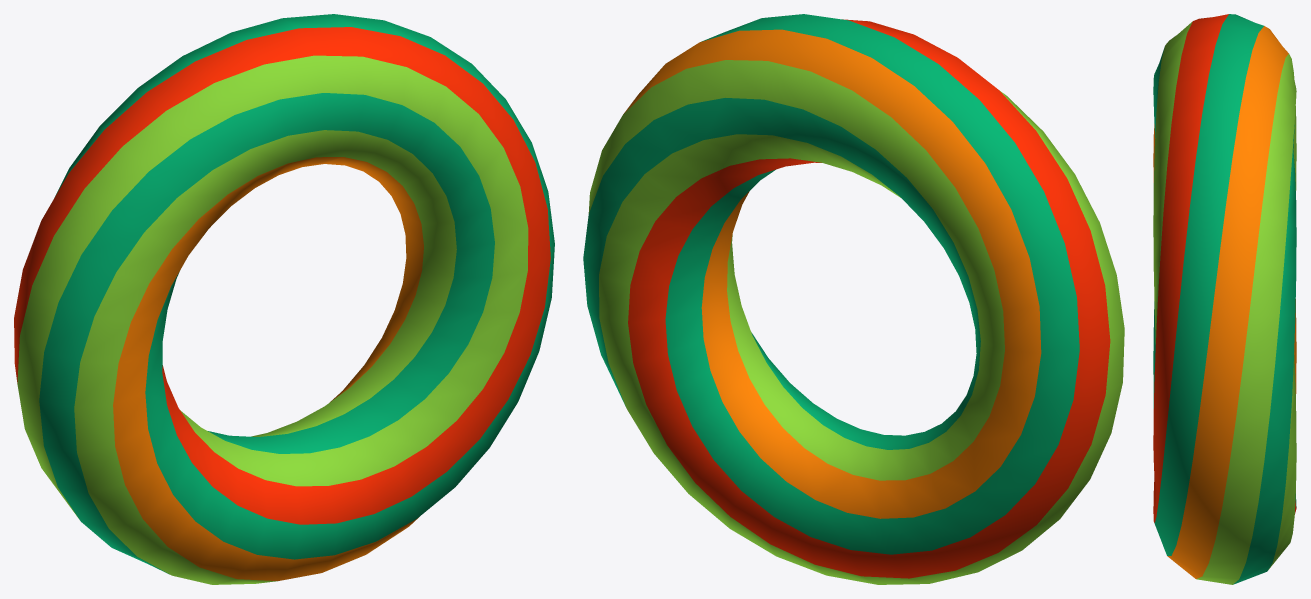
The model's file is lollipop_030.glb.
The picture shows the model from 3 angles, left to right: view 1: azimuth 30°, elevation 25°; view 2: azimuth 150°, elevation 25°; view 3: azimuth 270°, elevation 25°; orthographic projection. The views are drawn at different scales.
Visible parts, largest first — view 1: lollipop_030; view 2: lollipop_030; view 3: lollipop_030.
Part boxes in pixels (left/top/right/bottom): lollipop_030: left=14, top=14, right=554, bottom=584; lollipop_030: left=583, top=14, right=1124, bottom=584; lollipop_030: left=1153, top=14, right=1296, bottom=584.
Size of the model in its own units: 5.9 by 5.91 by 1.48.
Materials: 1 (1 with a texture image).
